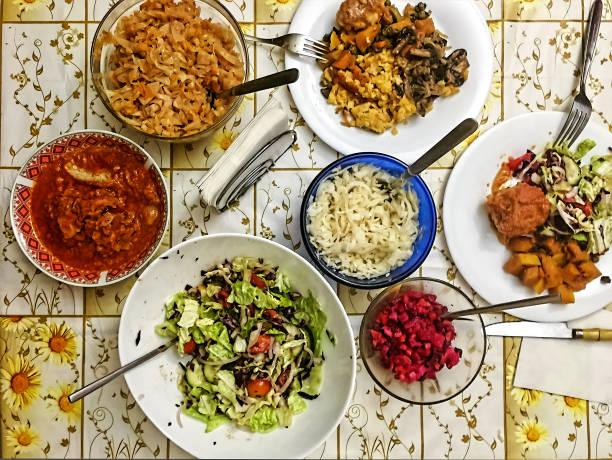Braised Crucian Carp: (120, 232, 354, 456), (442, 112, 611, 319), (284, 1, 489, 161), (9, 129, 167, 285), (89, 1, 247, 143), (300, 153, 434, 288), (354, 280, 491, 409)
